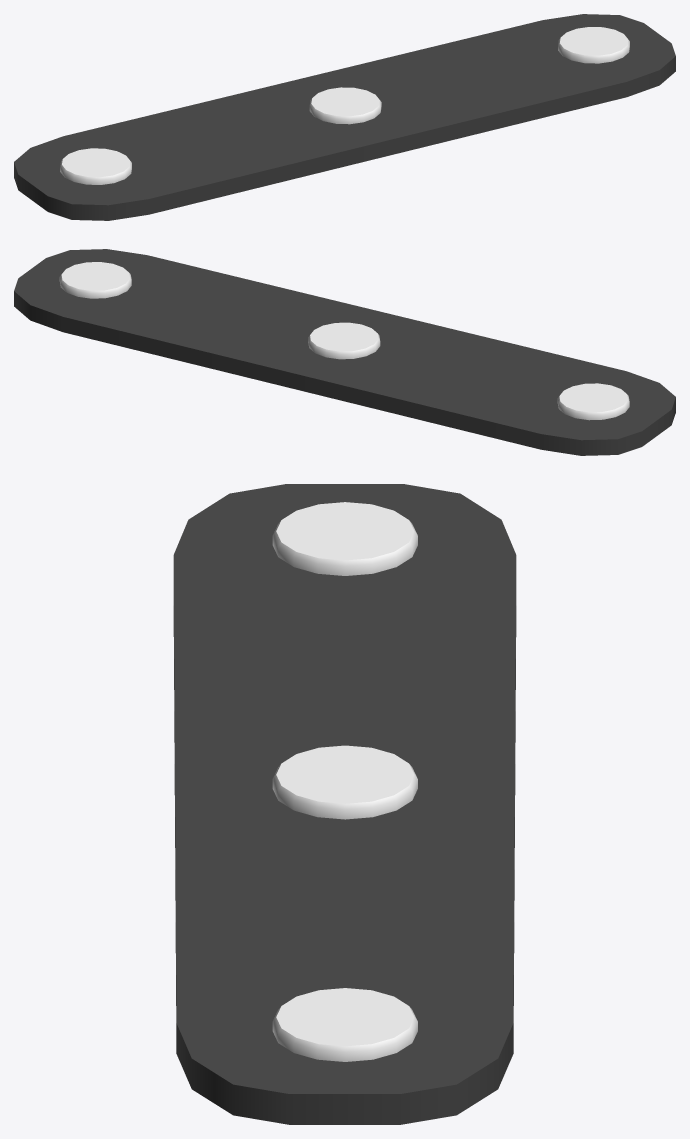
Rendered from diff_9.1.fbx.
3 renders of one model, top to bottom at view 1: azimuth 30°, elevation 25°; view 2: azimuth 150°, elevation 25°; view 3: azimuth 270°, elevation 25°, orthographic. The views are drawn at different scales.
Visible parts, largest first — view 1: Cube.013; view 2: Cube.013; view 3: Cube.013.
Boxes of the visible parts, box(x1,y1,x2,y2) form: Cube.013: box(14, 14, 675, 220); Cube.013: box(14, 249, 675, 455); Cube.013: box(173, 484, 516, 1124).
Size of the model in its own units: 1584 by 55.61 by 377.
